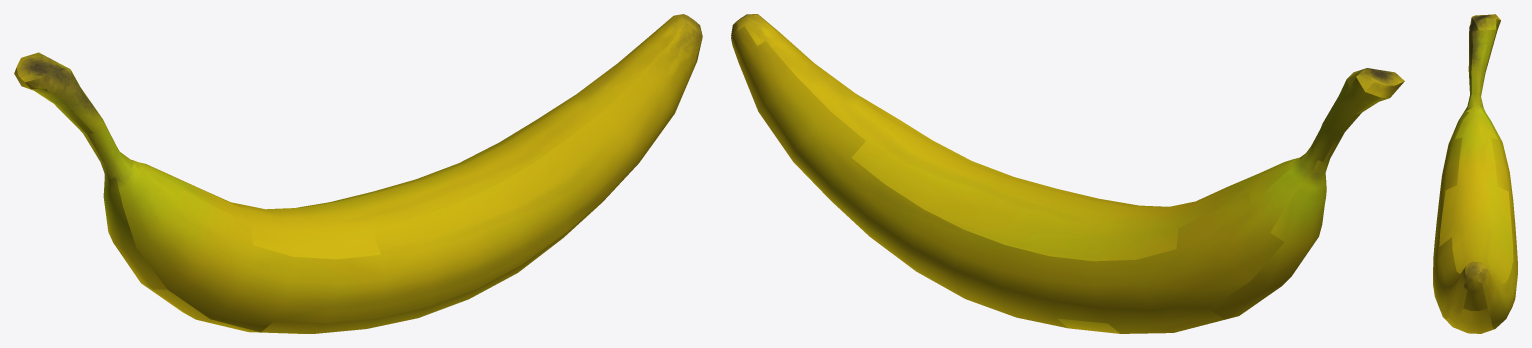
Rendered from banana.fbx.
3 views of the same model, side by side, from view 1: azimuth 30°, elevation 25°; view 2: azimuth 150°, elevation 25°; view 3: azimuth 270°, elevation 25° (orthographic). The views are drawn at different scales.
Visible parts, largest first — view 1: banana_low_Banana_0; view 2: banana_low_Banana_0; view 3: banana_low_Banana_0.
Part boxes in pixels (<box>): banana_low_Banana_0: <box>14,14,702,333</box>; banana_low_Banana_0: <box>731,14,1404,333</box>; banana_low_Banana_0: <box>1433,14,1517,333</box>.
Bounding box in the file's own units: 4.66 × 0.8504 × 2.18.
